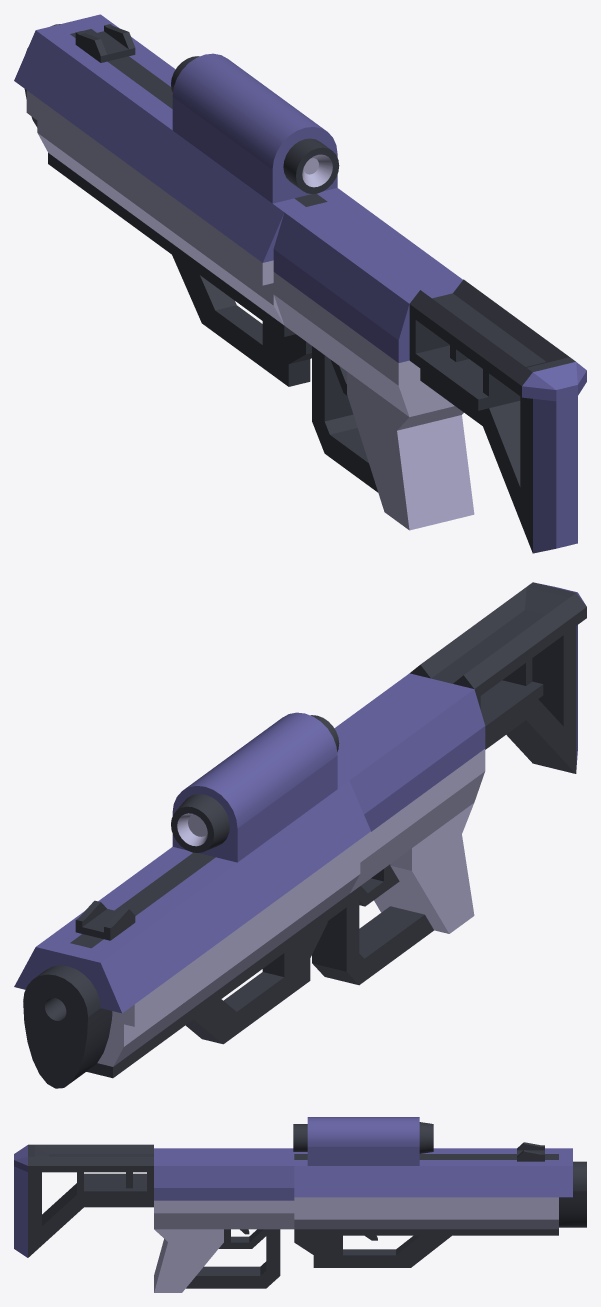
File: smg.glb
The picture shows the model from 3 angles, top to bottom: view 1: azimuth 30°, elevation 25°; view 2: azimuth 150°, elevation 25°; view 3: azimuth 270°, elevation 25°; orthographic projection. The views are drawn at different scales.
Visible parts, largest first — view 1: mediumBlaster_handleGuard, largeBlaster_handleBolt, stock_stealth, scope_small, largeBlaster_barrelSpace, detailTargetSight; view 2: mediumBlaster_handleGuard, largeBlaster_handleBolt, largeBlaster_barrelSpace, stock_stealth, scope_small, detailTargetSight; view 3: largeBlaster_handleBolt, mediumBlaster_handleGuard, stock_stealth, largeBlaster_barrelSpace, scope_small, detailTargetSight.
Part boxes in pixels (bbox=[...]): mediumBlaster_handleGuard: bbox=[273, 196, 474, 530]; largeBlaster_handleBolt: bbox=[89, 69, 348, 386]; stock_stealth: bbox=[409, 279, 586, 553]; scope_small: bbox=[171, 53, 339, 203]; largeBlaster_barrelSpace: bbox=[14, 14, 174, 209]; detailTargetSight: bbox=[75, 24, 135, 62]; mediumBlaster_handleGuard: bbox=[312, 673, 485, 985]; largeBlaster_handleBolt: bbox=[111, 778, 370, 1044]; largeBlaster_barrelSpace: bbox=[14, 892, 197, 1088]; stock_stealth: bbox=[410, 582, 586, 773]; scope_small: bbox=[171, 712, 339, 862]; detailTargetSight: bbox=[75, 900, 135, 940]; largeBlaster_handleBolt: bbox=[294, 1148, 488, 1267]; mediumBlaster_handleGuard: bbox=[154, 1148, 294, 1292]; stock_stealth: bbox=[14, 1144, 153, 1257]; largeBlaster_barrelSpace: bbox=[489, 1148, 586, 1235]; scope_small: bbox=[293, 1117, 433, 1165]; detailTargetSight: bbox=[517, 1142, 544, 1161].
Size of the model in its own units: 0.5 by 1.3 by 4.09.
